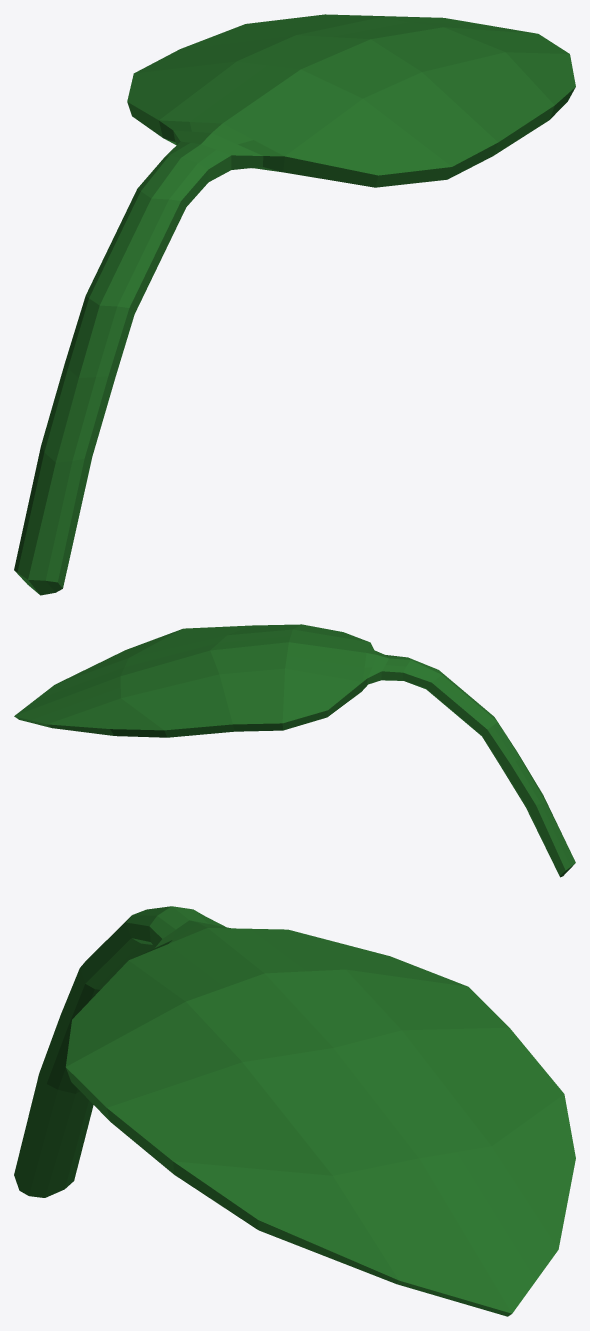
File: HOJAnormal.fbx
The picture shows the model from 3 angles, top to bottom: view 1: azimuth 30°, elevation 25°; view 2: azimuth 150°, elevation 25°; view 3: azimuth 270°, elevation 25°; orthographic projection. The views are drawn at different scales.
Parts seen in each view (by area): view 1: Plane.002; view 2: Plane.002; view 3: Plane.002.
Part boxes in pixels (x1,y1,x2,y2): Plane.002: (14, 14, 575, 595); Plane.002: (14, 624, 575, 877); Plane.002: (14, 906, 575, 1316).
Bounding box in the file's own units: 1326 × 650 × 780.
